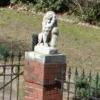Statue: (19, 5, 71, 73)
